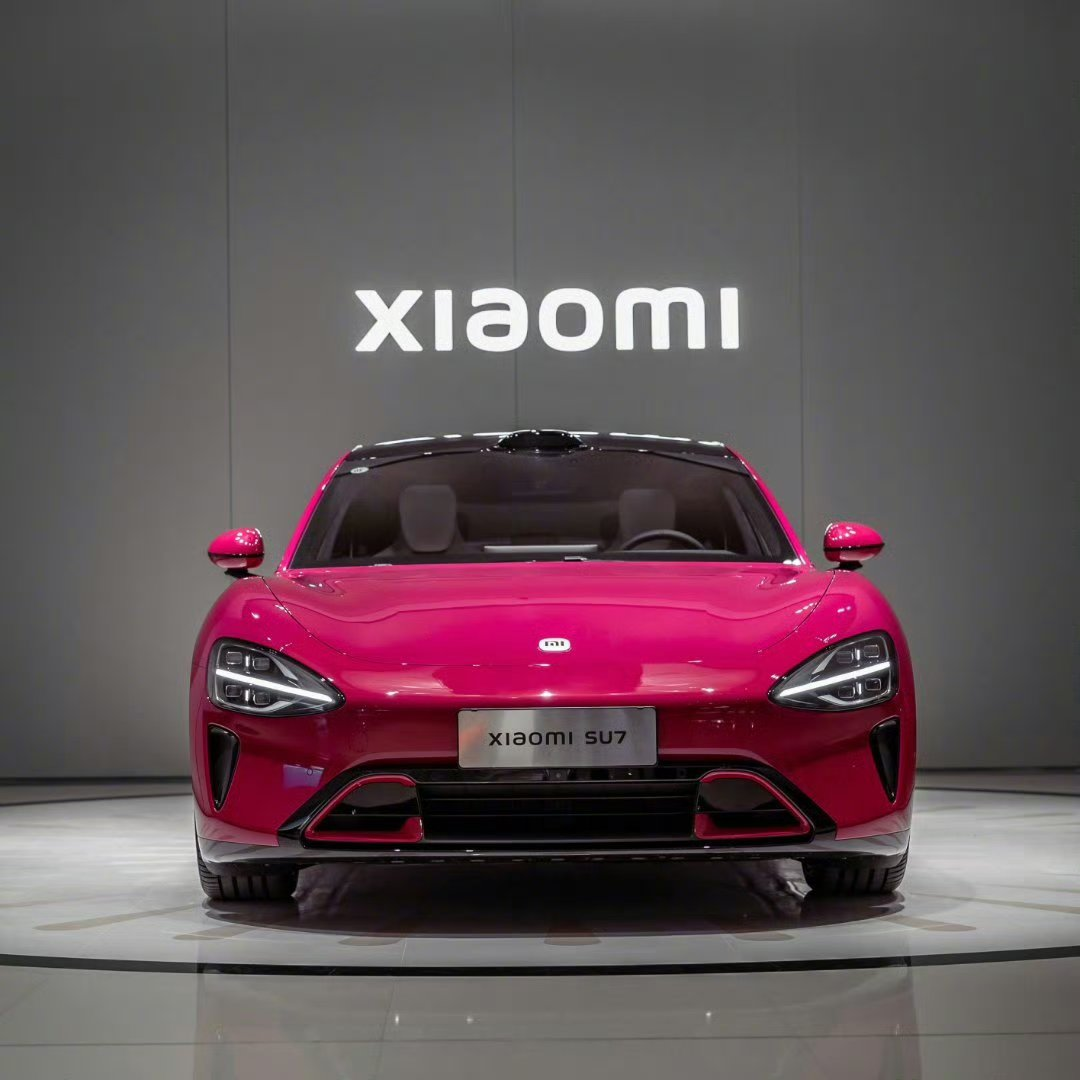su7: (190, 428, 922, 919)
